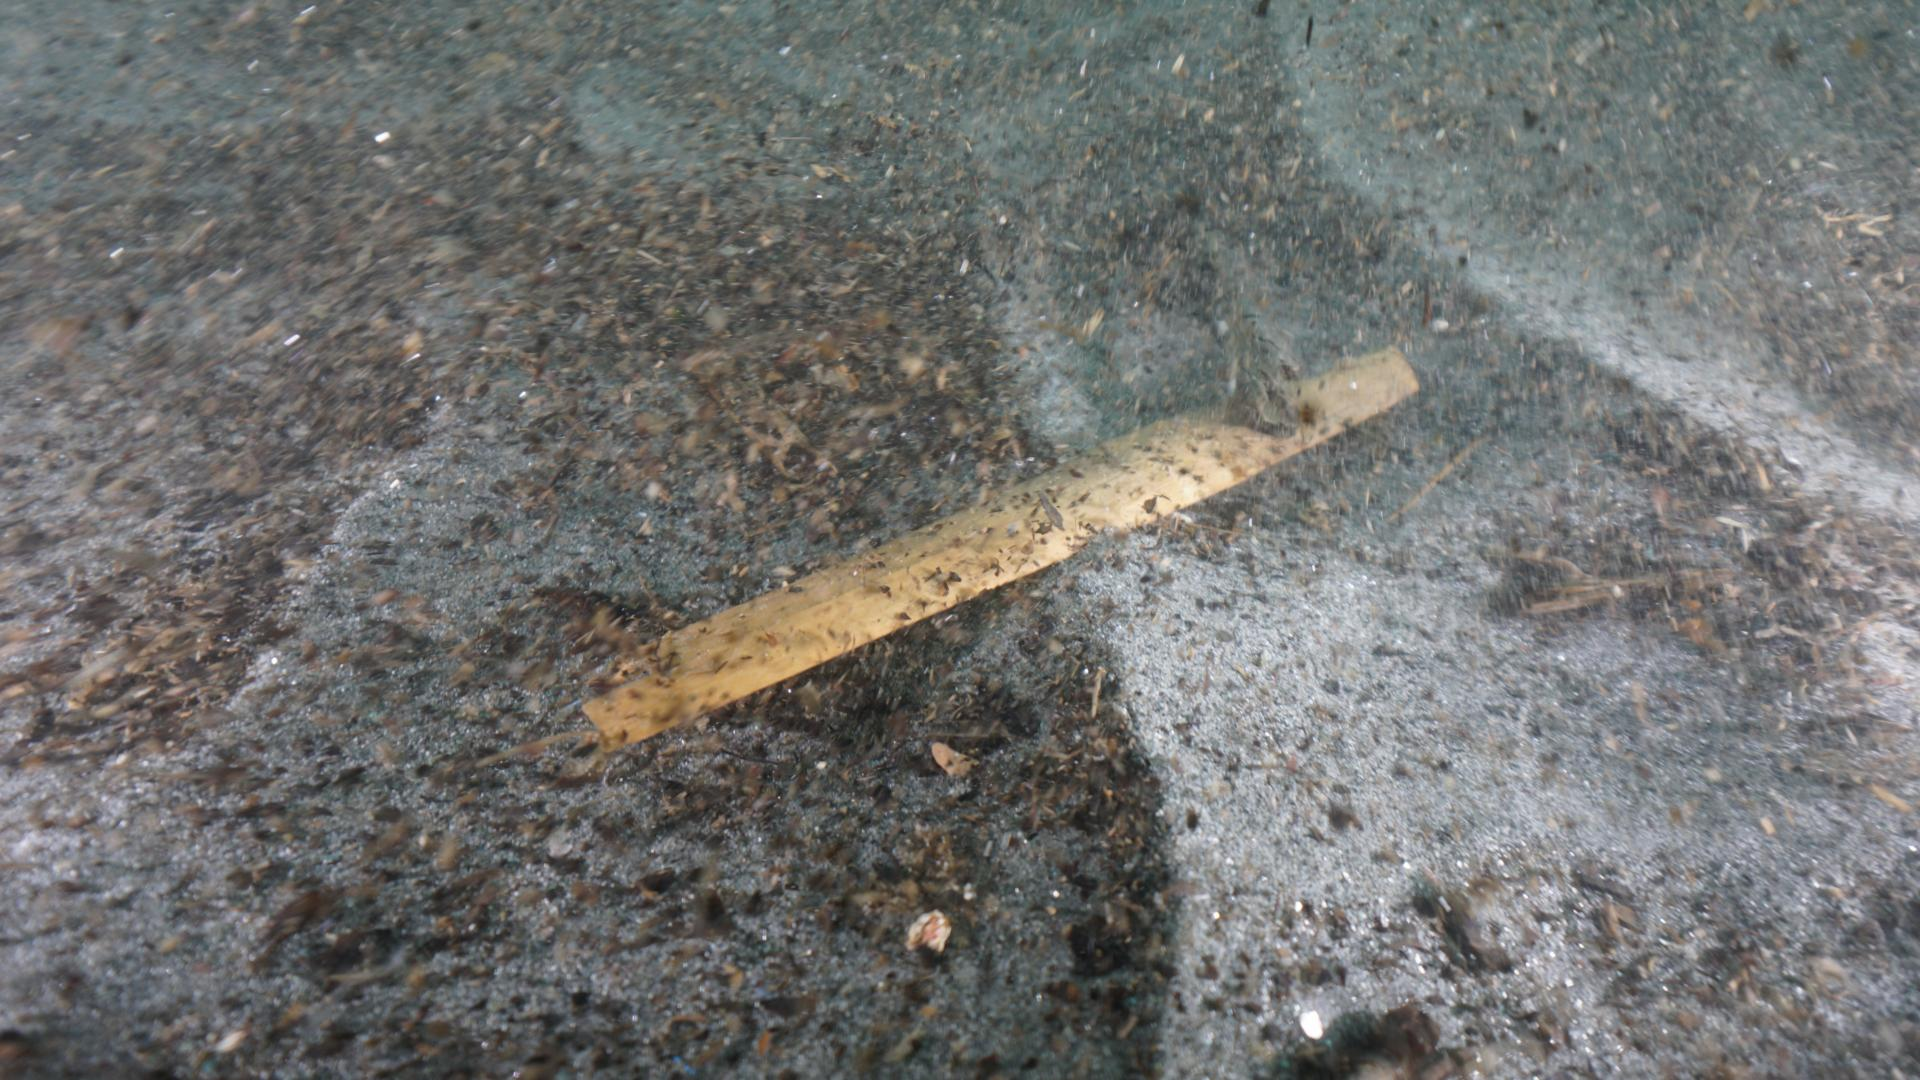wood: (576, 342, 1420, 748)
